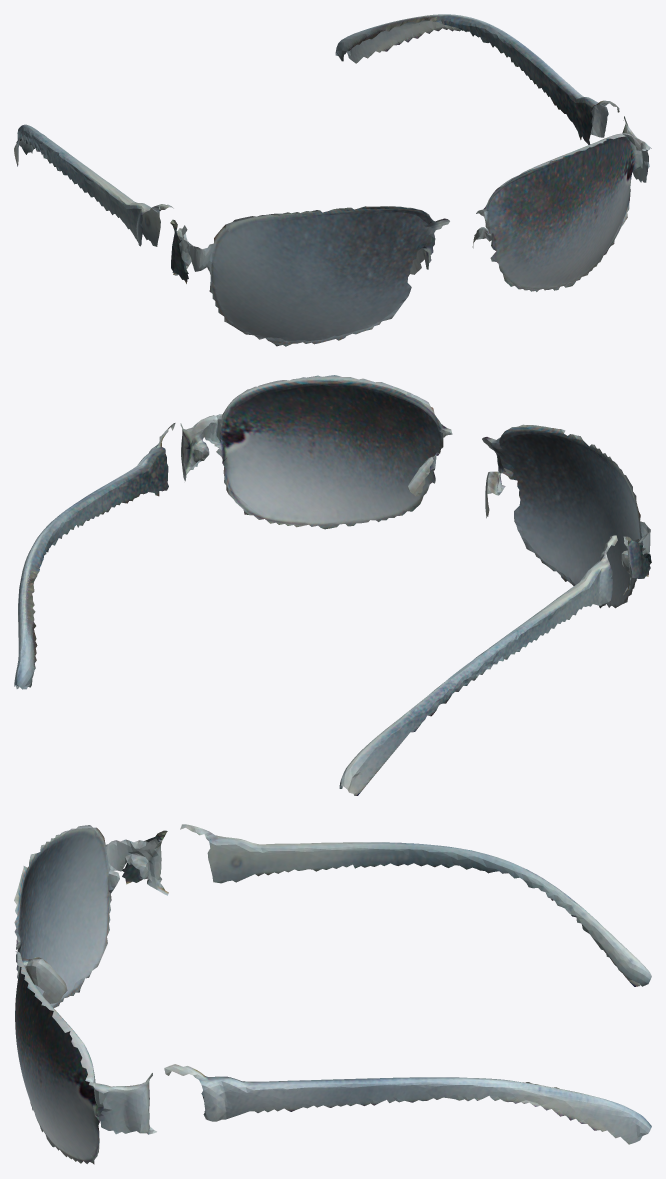
File: scan_align.obj
3 views of the same model, one above another, from view 1: azimuth 30°, elevation 25°; view 2: azimuth 150°, elevation 25°; view 3: azimuth 270°, elevation 25° (orthographic). The views are drawn at different scales.
Size of the model in its own units: 0.1455 by 0.0435 by 0.1567.
1 material, 1 textured.
